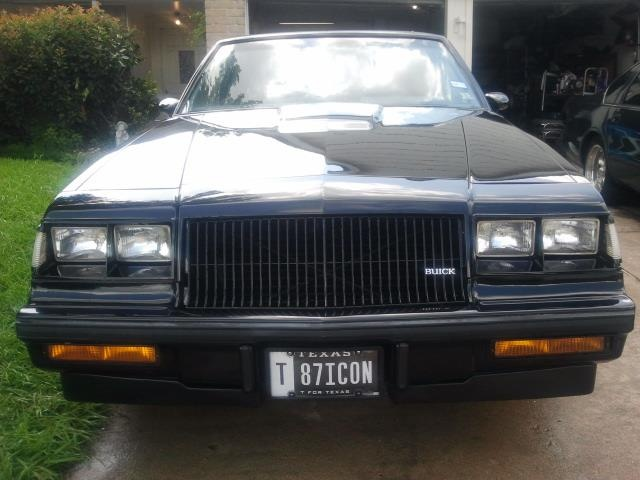license plate: (267, 348, 382, 400)
